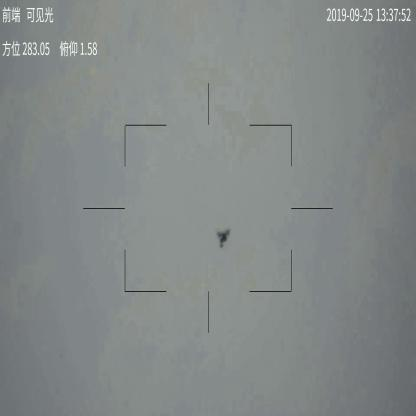uav: (215, 228, 234, 252)
